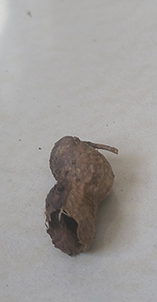l: (43, 134, 120, 256)
